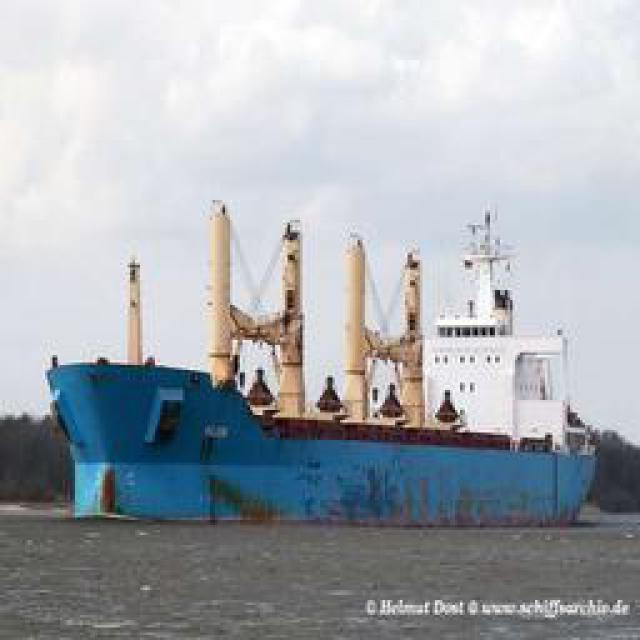Ship: (36, 347, 614, 527)
